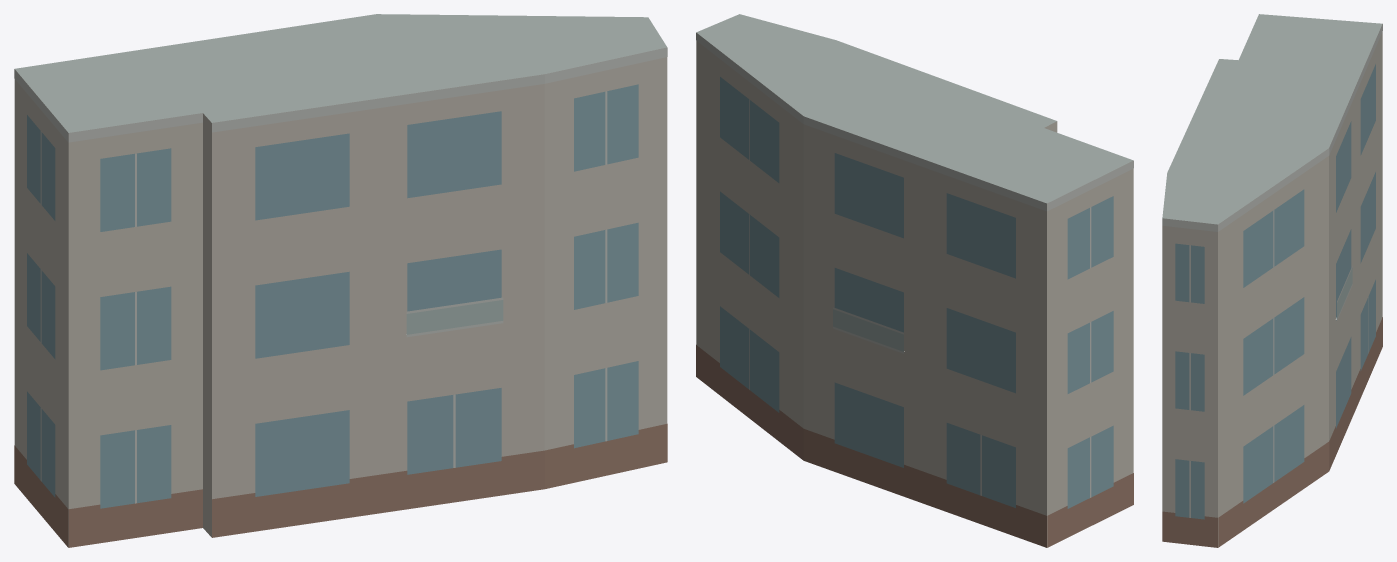
Rendered from survey-upis-32499222.glb.
3 views of the same model, side by side, from view 1: azimuth 30°, elevation 25°; view 2: azimuth 150°, elevation 25°; view 3: azimuth 270°, elevation 25° (orthographic). The views are drawn at different scales.
Parts seen in each view (by area): view 1: survey-upis-32499222.tmp; view 2: survey-upis-32499222.tmp; view 3: survey-upis-32499222.tmp.
Part boxes in pixels (x1,y1,x2,y2): survey-upis-32499222.tmp: (14,14,667,547); survey-upis-32499222.tmp: (696,14,1133,547); survey-upis-32499222.tmp: (1162,14,1382,547).
Size of the model in its own units: 14.73 by 10.54 by 6.52.
